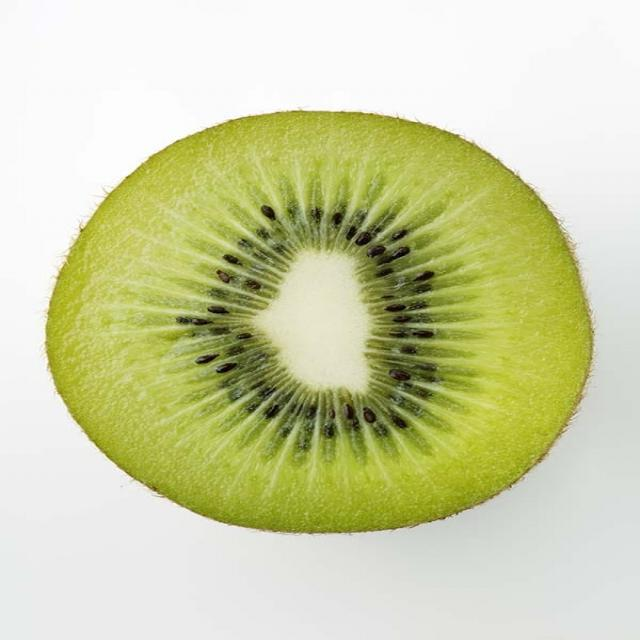kiwi: (38, 105, 600, 540)
